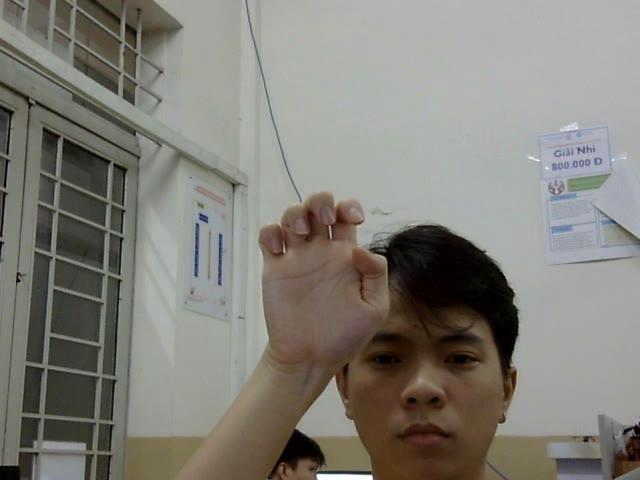E: (256, 189, 391, 359)
